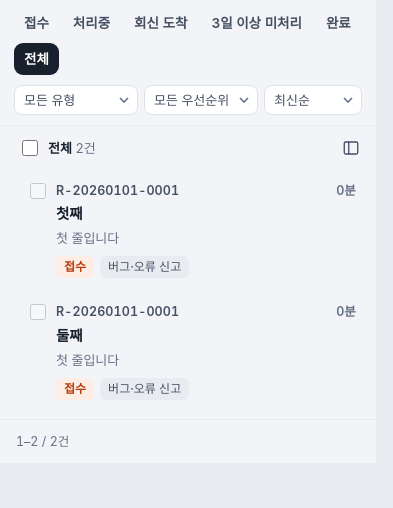
InboxList › bulk status › selects all, applies the chosen status, and refreshes
The image size is (393, 508).
Step 1. Click the checkbox named "이 페이지 전체 선택" → coordinates (30, 148), box [22,140,38,156]
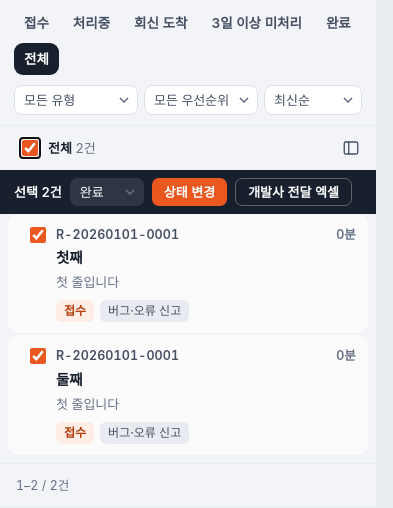
Check: the text "선택 2건" is shown, box [14,182,62,202]
Step 2. Click the button "상태 변경" → coordinates (189, 192), box [152,178,227,206]
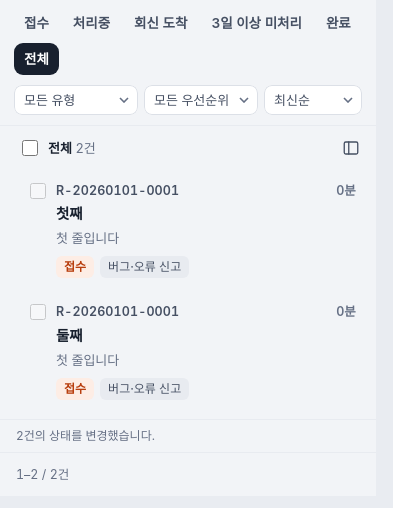
Check: the text "2건의 상태를 변경했습니다." is shown, box [0,419,376,452]
Check: the text "선택 2건" is gone
